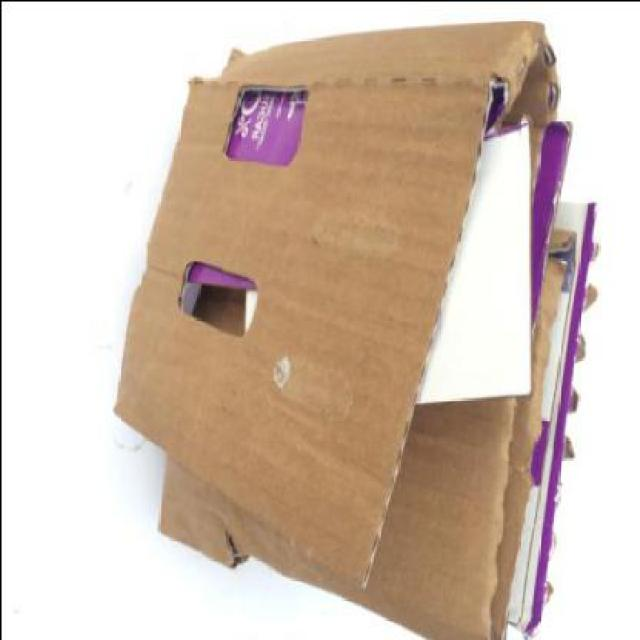CARDBOARD: (112, 13, 572, 592), (159, 198, 596, 638)
